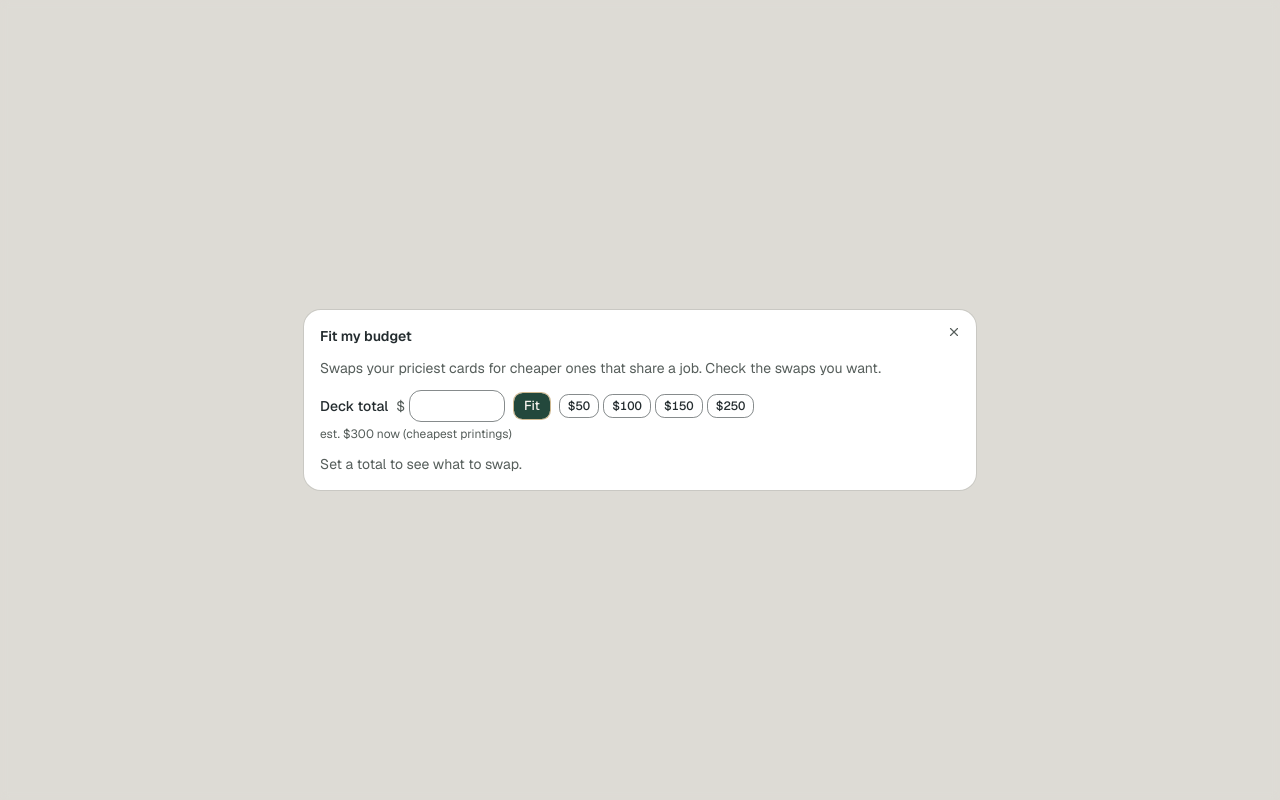
Scenario: FitSheet — the total and the asks › $250: the three priciest are asked together, and the first batch fits — nothing more is asked
Click the button "$250" at (731, 406), box [707,394,754,418]
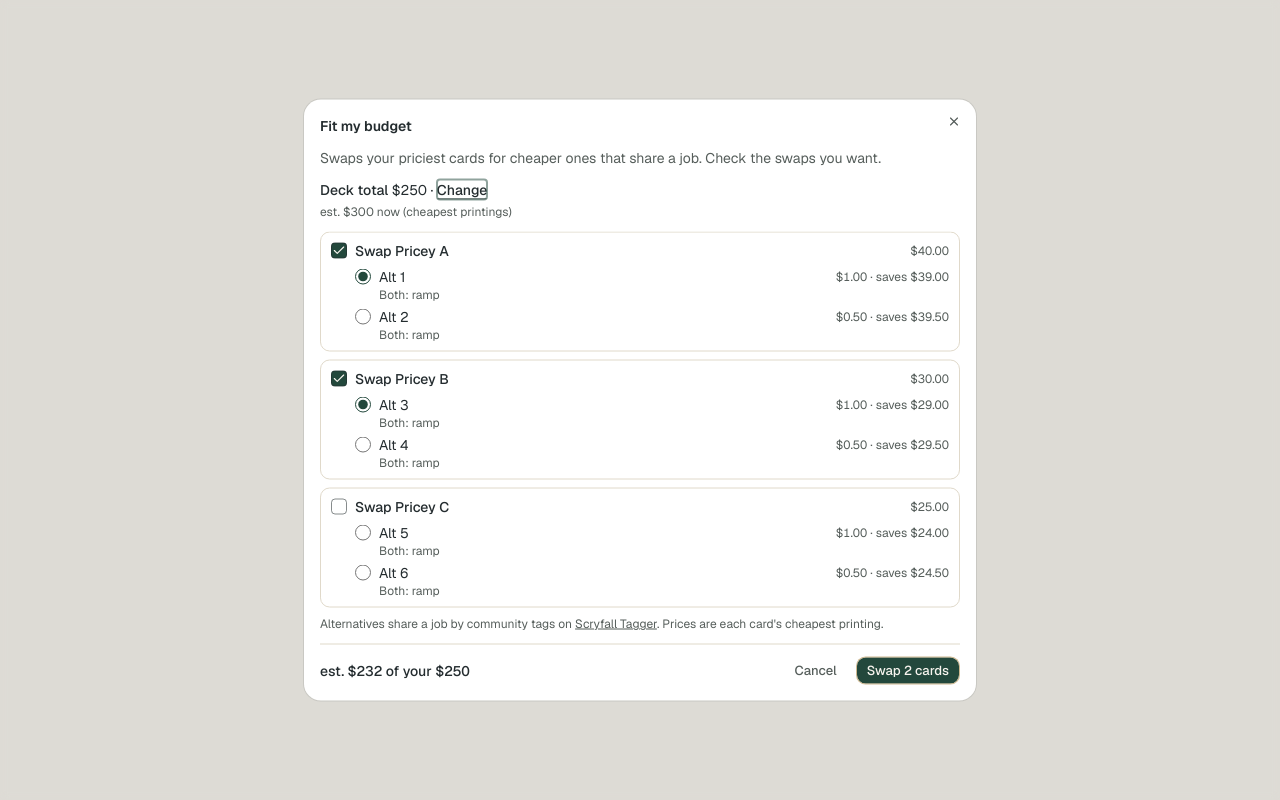
Expected: the text "est. $232 of your $250" is shown, [320,660,470,680]
Expected: the number of list items is 3, [320,232,960,352]; [320,360,960,480]; [320,488,960,608]
Expected: the button "Swap 2 cards" is shown, [856,656,960,684]
